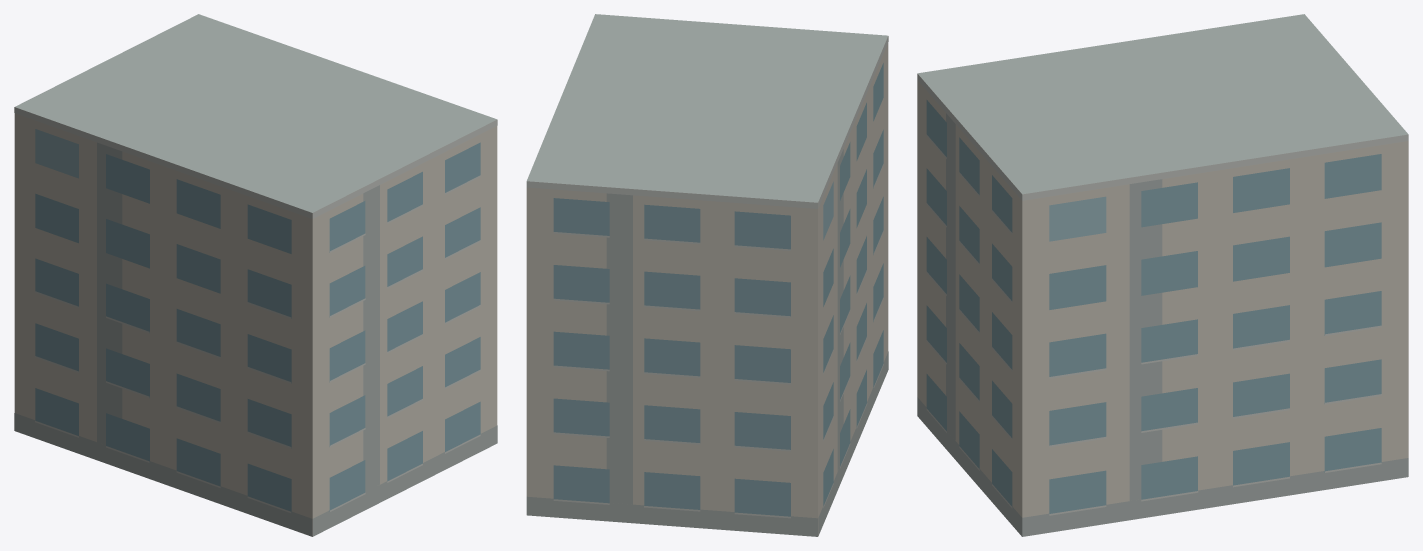
Rendered from survey-upis-32524069.glb.
The picture shows the model from 3 angles, left to right: view 1: azimuth 30°, elevation 25°; view 2: azimuth 150°, elevation 25°; view 3: azimuth 270°, elevation 25°; orthographic projection. The views are drawn at different scales.
Visible parts, largest first — view 1: survey-upis-32524069.tmp; view 2: survey-upis-32524069.tmp; view 3: survey-upis-32524069.tmp.
Part boxes in pixels (<box>): survey-upis-32524069.tmp: <box>14,14,497,536</box>; survey-upis-32524069.tmp: <box>526,14,888,536</box>; survey-upis-32524069.tmp: <box>917,14,1408,536</box>.
Bounding box in the file's own units: 14.67 × 12.98 × 16.89.
